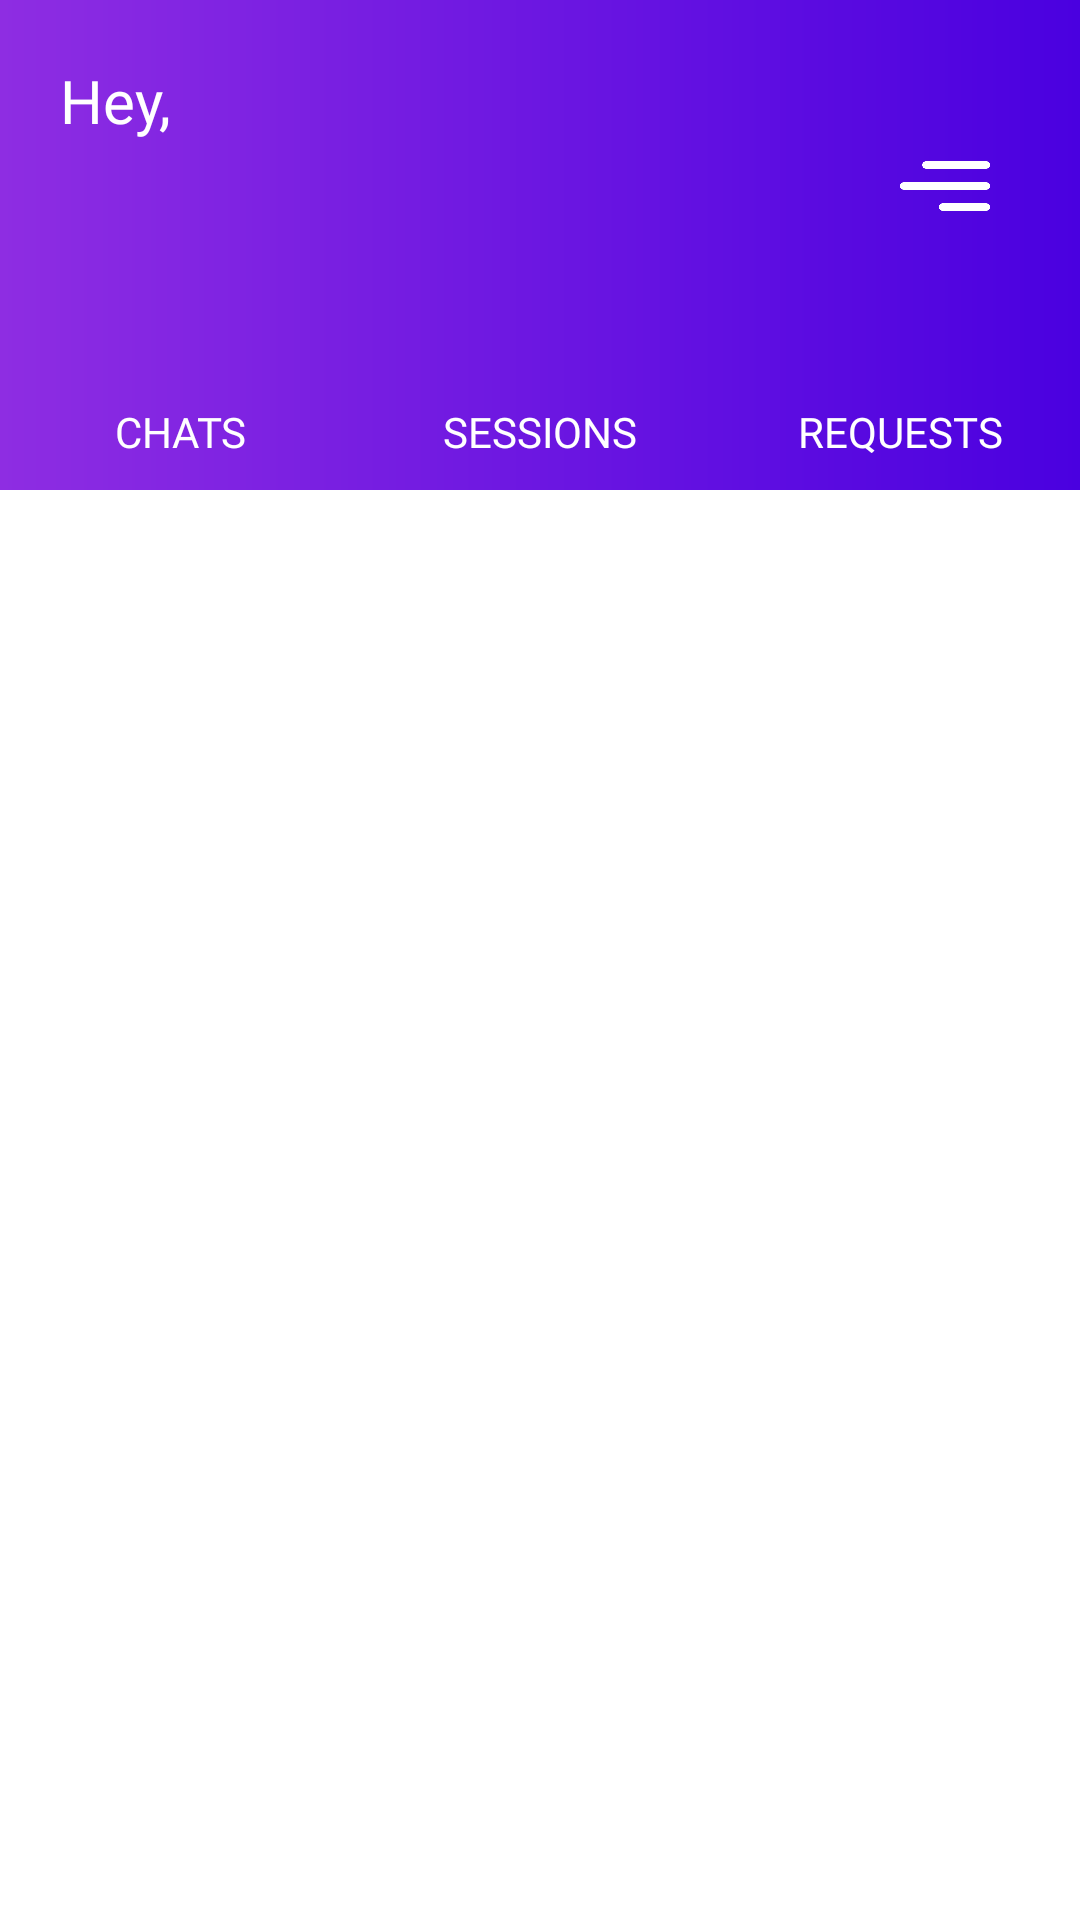

Point at icon controls on the screen. Image size 1080x1920, points as (x=x, y=y).
menu: (x=945, y=186)
